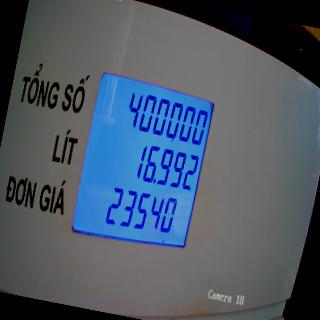screen: (68, 66, 220, 256)
